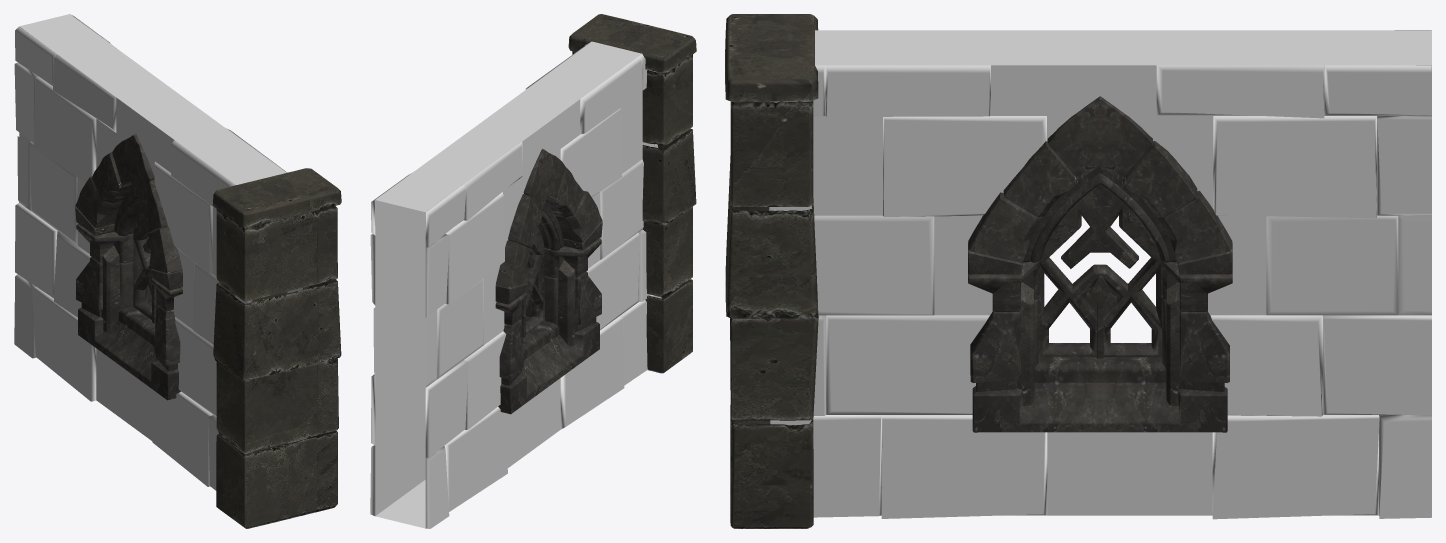
3 renders of one model, left to right at view 1: azimuth 30°, elevation 25°; view 2: azimuth 150°, elevation 25°; view 3: azimuth 270°, elevation 25°, orthographic. The views are drawn at different scales.
Visible parts, largest first — view 1: SM_Greathall_Wall_8x6_01_LOD0; view 2: SM_Greathall_Wall_8x6_01_LOD0; view 3: SM_Greathall_Wall_8x6_01_LOD0.
Boxes of the visible parts, left/top/right/bottom form: SM_Greathall_Wall_8x6_01_LOD0: left=14, top=14, right=341, bottom=528; SM_Greathall_Wall_8x6_01_LOD0: left=370, top=14, right=696, bottom=528; SM_Greathall_Wall_8x6_01_LOD0: left=725, top=14, right=1431, bottom=528.
Bounding box in the file's own units: 1.99 × 6.02 × 8.53.
3 materials, 2 textured.
